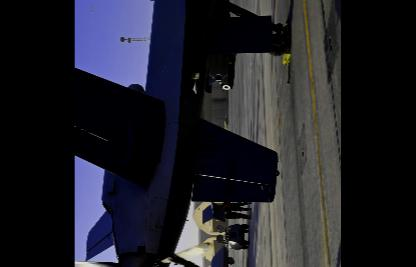MQ9: (75, 0, 291, 266), (209, 243, 249, 266)
